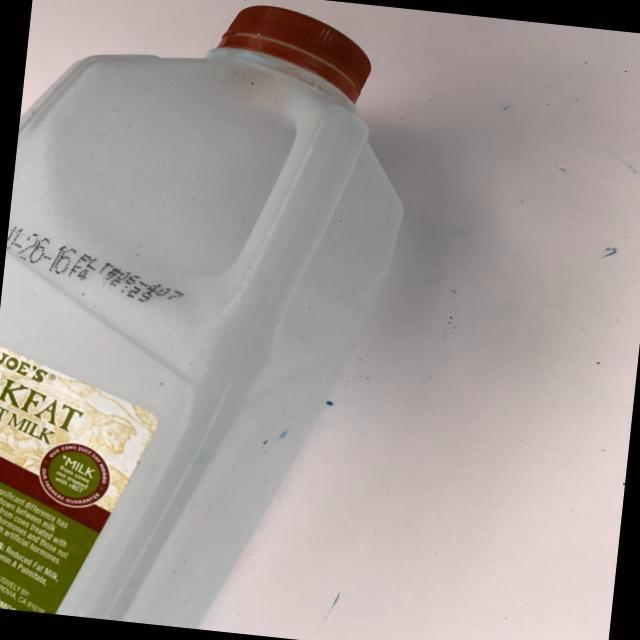plastic: (0, 0, 495, 640)
